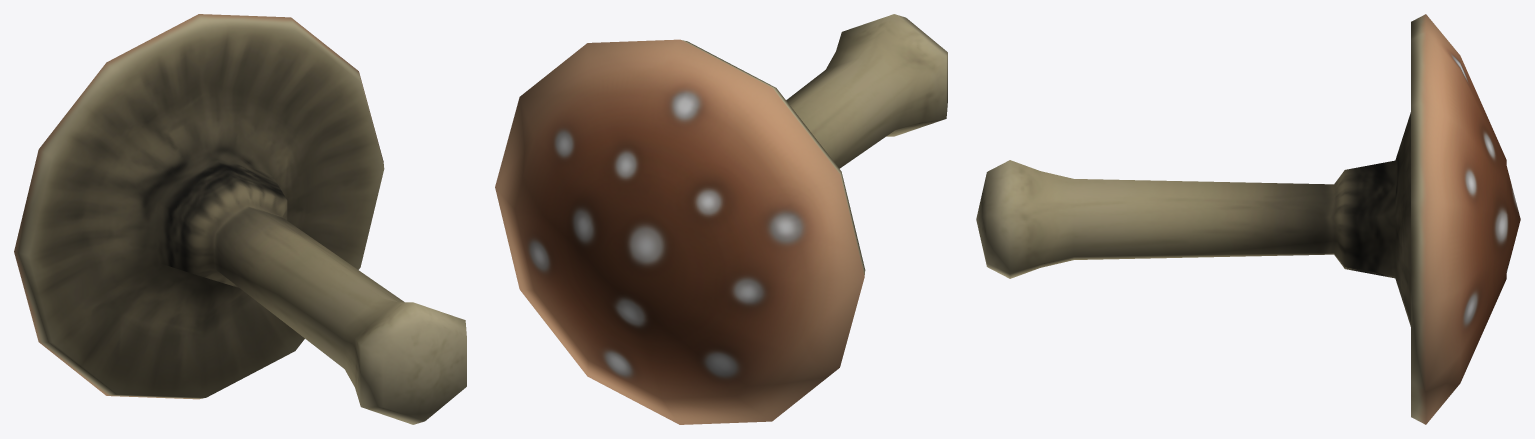
File: Mushroom_b.fbx
The picture shows the model from 3 angles, left to right: view 1: azimuth 30°, elevation 25°; view 2: azimuth 150°, elevation 25°; view 3: azimuth 270°, elevation 25°; orthographic projection. The views are drawn at different scales.
Visible parts, largest first — view 1: Mushroom_b; view 2: Mushroom_b; view 3: Mushroom_b.
Boxes of the visible parts, x1,y1,x2,y2 form: Mushroom_b: (14, 14, 466, 424); Mushroom_b: (495, 14, 947, 424); Mushroom_b: (976, 14, 1520, 424).
Size of the model in its own units: 47.63 by 47.46 by 62.65.
